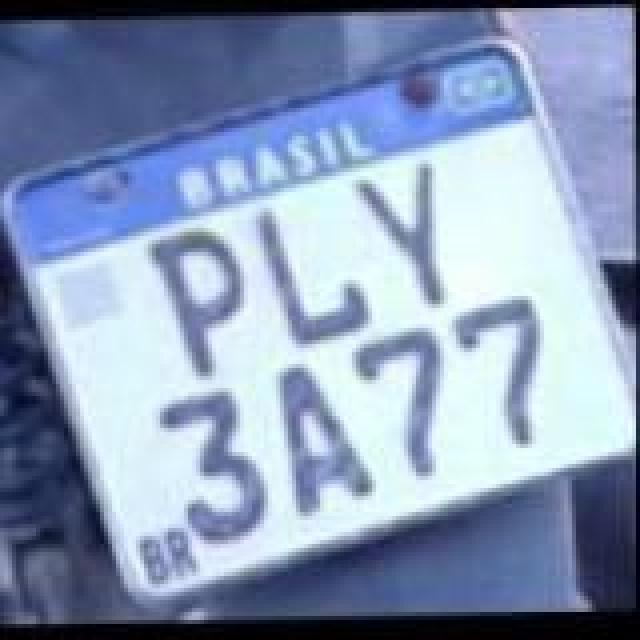3: (154, 392, 278, 552)
7: (452, 294, 556, 454), (352, 328, 448, 488)
A: (276, 356, 380, 520)
L: (254, 200, 382, 348)
P: (140, 224, 256, 384)
Y: (356, 168, 452, 312)
